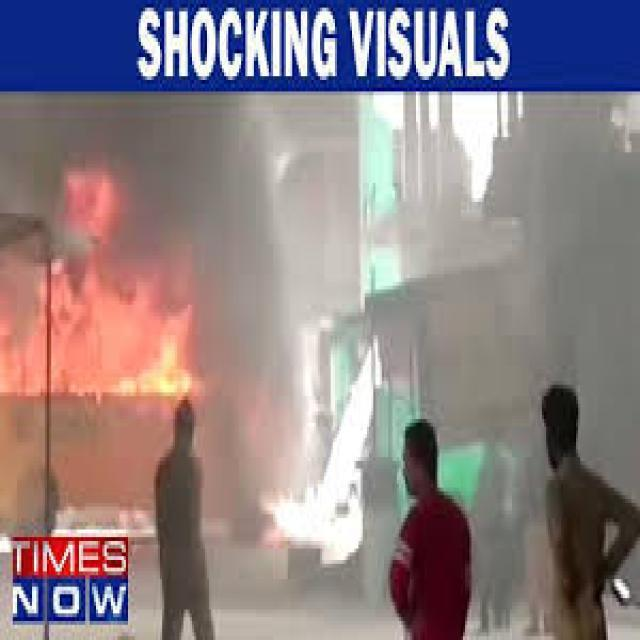Fire: (0, 171, 201, 404)
